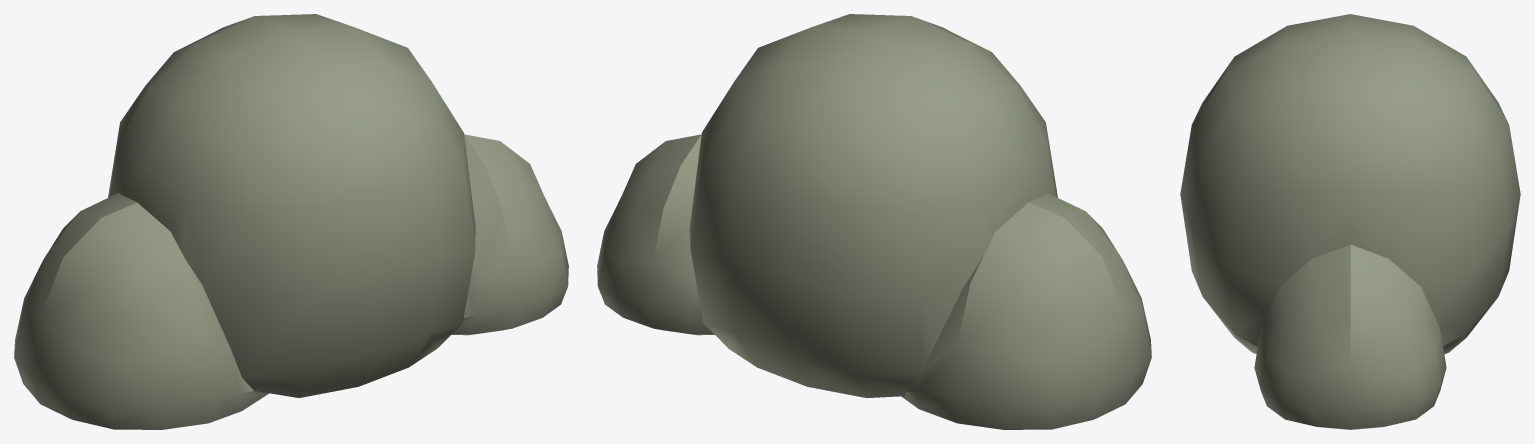
The model's file is cloud-large.glb.
3 views of the same model, side by side, from view 1: azimuth 30°, elevation 25°; view 2: azimuth 150°, elevation 25°; view 3: azimuth 270°, elevation 25° (orthographic). The views are drawn at different scales.
Parts seen in each view (by area): view 1: cloud-large; view 2: cloud-large; view 3: cloud-large.
Part boxes in pixels (box(x1,y1,x2,y2)): cloud-large: box(14, 14, 568, 429); cloud-large: box(597, 14, 1151, 429); cloud-large: box(1180, 14, 1520, 429).
Size of the model in its own units: 4.01 by 2.4 by 2.45.
Materials: 1 (1 with a texture image).
